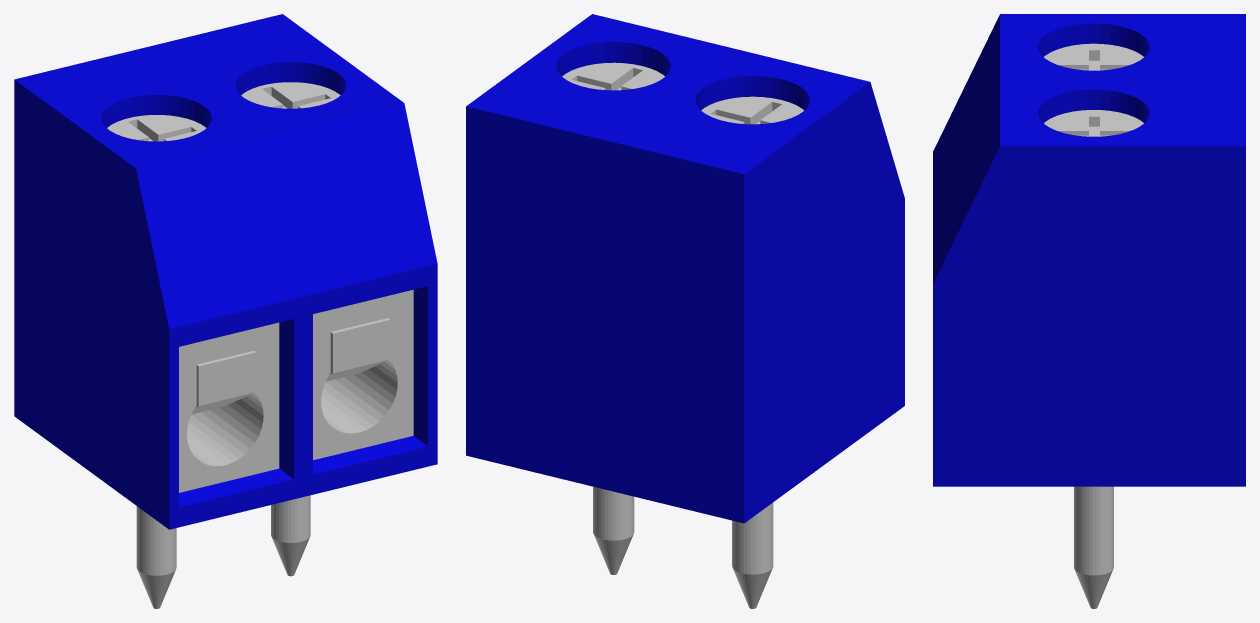
The picture shows the model from 3 angles, left to right: view 1: azimuth 30°, elevation 25°; view 2: azimuth 150°, elevation 25°; view 3: azimuth 270°, elevation 25°; orthographic projection. The views are drawn at different scales.
Visible parts, largest first — view 1: SCREWTERMINAL-3_5MM-2; view 2: SCREWTERMINAL-3_5MM-2; view 3: SCREWTERMINAL-3_5MM-2.
Boxes of the visible parts, bbox=[...] form: SCREWTERMINAL-3_5MM-2: bbox=[14, 14, 437, 608]; SCREWTERMINAL-3_5MM-2: bbox=[466, 14, 904, 608]; SCREWTERMINAL-3_5MM-2: bbox=[933, 14, 1245, 608].
Bounding box in the file's own units: 7 × 7 × 12.2.
